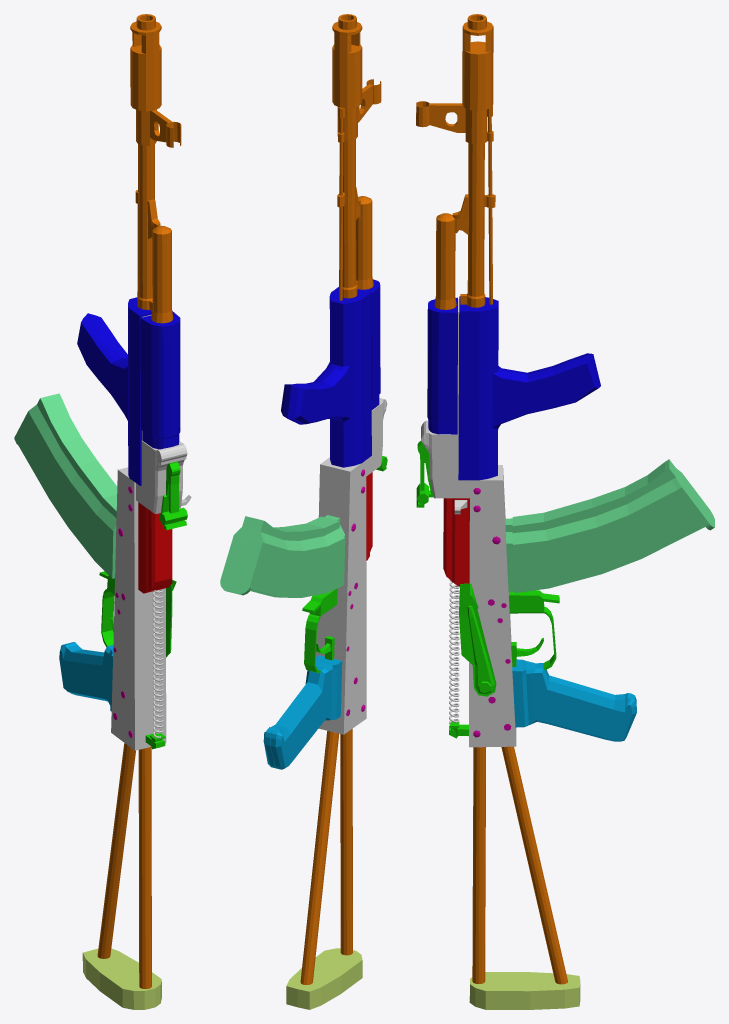
3 renders of one model, left to right at view 1: azimuth 30°, elevation 25°; view 2: azimuth 150°, elevation 25°; view 3: azimuth 270°, elevation 25°, orthographic. The views are drawn at different scales.
Parts seen in each view (by area): view 1: AK; view 2: AK; view 3: AK.
Boxes of the visible parts, x1=… form: AK: x1=14, y1=14, x2=191, y2=1009; AK: x1=220, y1=14, x2=387, y2=1009; AK: x1=416, y1=14, x2=714, y2=1009.
Size of the model in its own units: 3.34 by 58.86 by 16.22.
